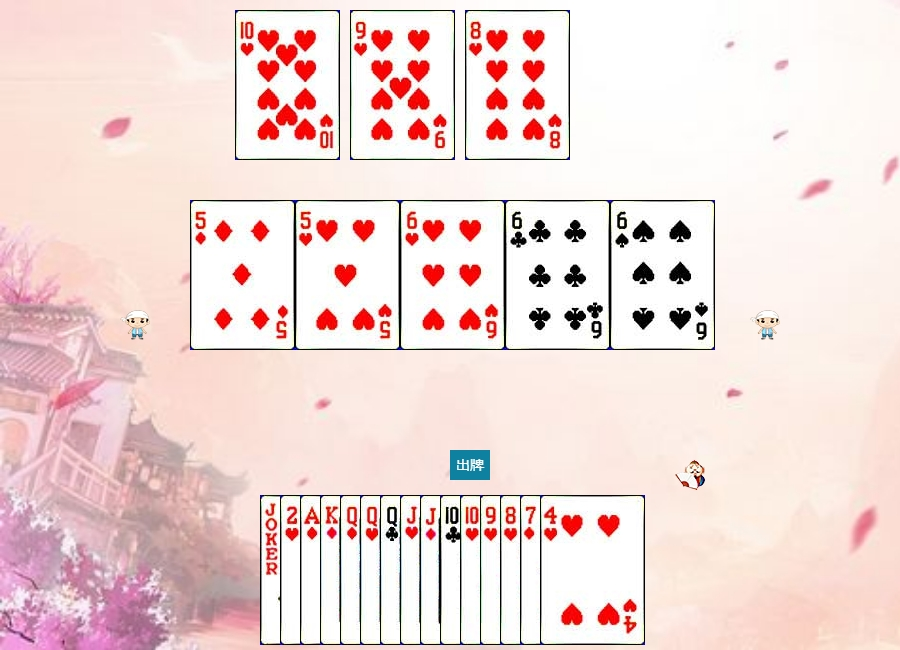10~2: (440, 495, 545, 645)
10~3: (235, 10, 340, 160), (460, 495, 565, 645)
11~1: (420, 495, 525, 645)
11~3: (400, 495, 505, 645)
12~1: (340, 495, 445, 645)
12~2: (380, 495, 485, 645)
12~3: (360, 495, 465, 645)
13~1: (320, 495, 425, 645)
14~1: (300, 495, 405, 645)
15~3: (280, 495, 385, 645)
18~4: (260, 495, 365, 645)
4~3: (540, 495, 645, 645)
5~1: (190, 200, 295, 350)
5~3: (295, 200, 400, 350)
6~2: (505, 200, 610, 350)
6~3: (400, 200, 505, 350)
6~4: (610, 200, 715, 350)
7~1: (520, 495, 625, 645)
8~3: (465, 10, 570, 160), (500, 495, 605, 645)
9~3: (350, 10, 455, 160), (480, 495, 585, 645)
